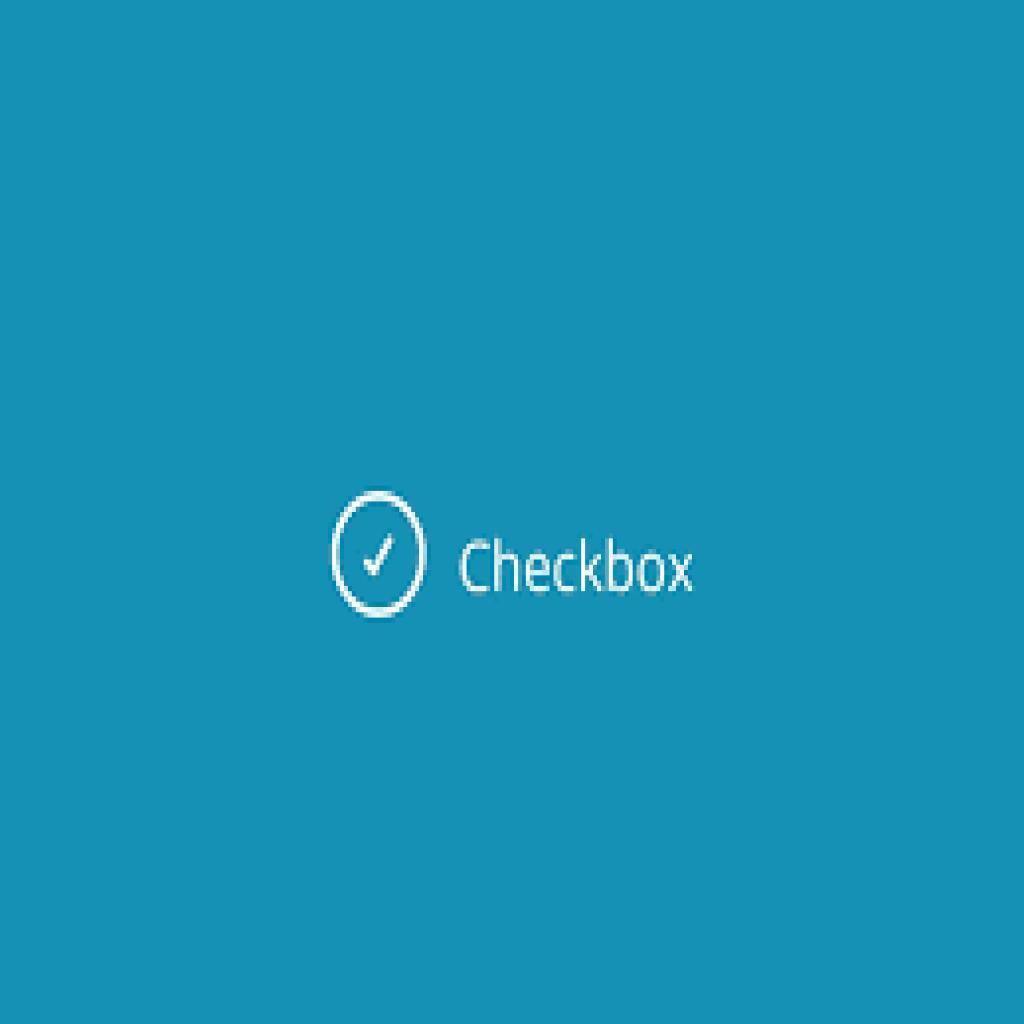checkbox: (331, 491, 430, 619)
label: (458, 531, 700, 603)
